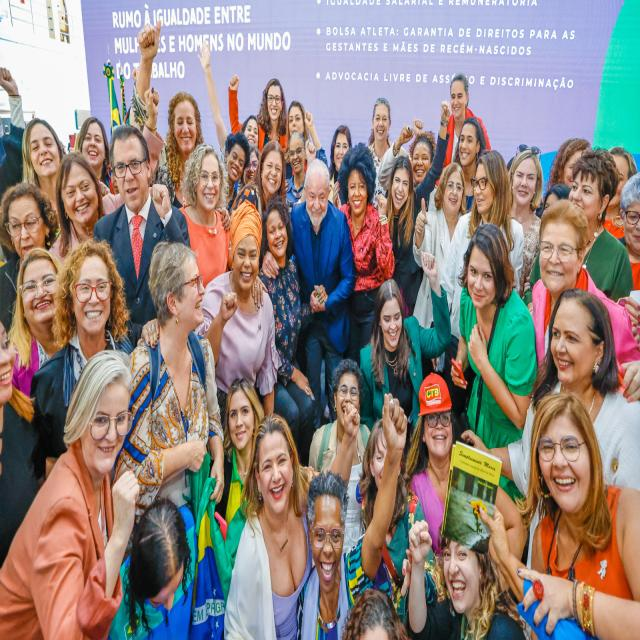sem_oculos: (534, 420, 594, 470), (539, 238, 588, 268), (553, 318, 596, 352), (462, 250, 500, 288), (72, 280, 118, 308), (87, 408, 131, 436), (564, 174, 604, 204), (4, 214, 49, 240), (308, 521, 344, 551), (254, 448, 292, 474), (19, 280, 62, 300), (510, 164, 545, 187), (302, 182, 335, 205), (114, 161, 152, 179), (441, 543, 473, 562), (174, 276, 204, 296), (24, 133, 56, 151), (377, 307, 403, 329), (619, 207, 640, 233), (426, 409, 451, 429), (173, 115, 200, 133), (233, 249, 258, 268), (223, 404, 254, 418), (335, 381, 359, 399), (470, 176, 494, 193), (84, 129, 105, 148), (392, 171, 410, 192), (65, 184, 96, 196), (373, 109, 392, 128), (448, 90, 470, 106), (458, 129, 477, 147), (229, 148, 246, 164), (267, 94, 285, 108), (347, 177, 366, 190), (448, 177, 461, 196), (414, 150, 431, 164), (288, 146, 301, 162), (264, 156, 276, 172), (332, 140, 348, 152), (242, 125, 260, 135), (288, 114, 302, 122)
